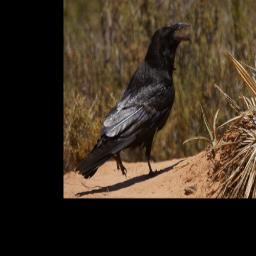Crow: (74, 23, 190, 179)
